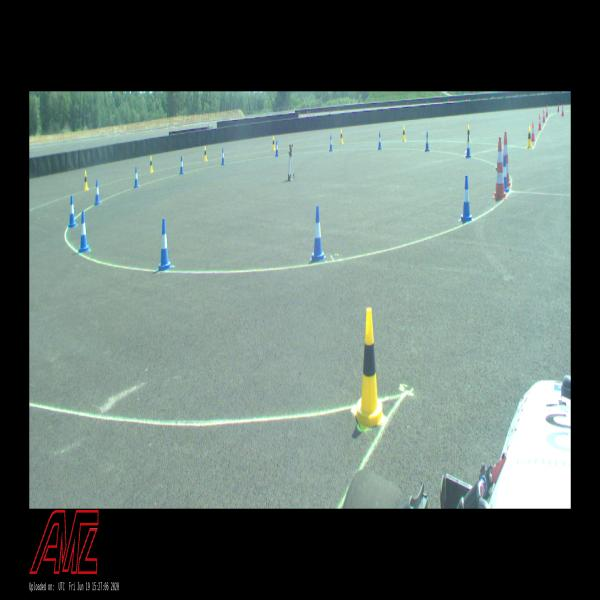blue_cone: (310, 206, 326, 261), (158, 219, 172, 271), (461, 176, 472, 221), (79, 212, 89, 252), (68, 196, 76, 227), (503, 156, 509, 191), (94, 180, 101, 205), (424, 132, 430, 151), (466, 137, 471, 158), (134, 167, 139, 187), (180, 156, 184, 174), (378, 132, 382, 149), (221, 149, 225, 165), (329, 135, 333, 151), (275, 141, 279, 156)
large_orange_cone: (493, 138, 508, 199), (503, 132, 510, 188)
orange_cone: (531, 122, 536, 142), (538, 115, 541, 130), (542, 110, 545, 122), (561, 105, 564, 116), (546, 106, 548, 117)
yellow_cone: (354, 308, 388, 428), (527, 126, 532, 148), (84, 171, 89, 190), (150, 156, 154, 172), (204, 146, 208, 161), (402, 126, 406, 141), (467, 125, 470, 142), (340, 129, 343, 144), (273, 136, 275, 150)
